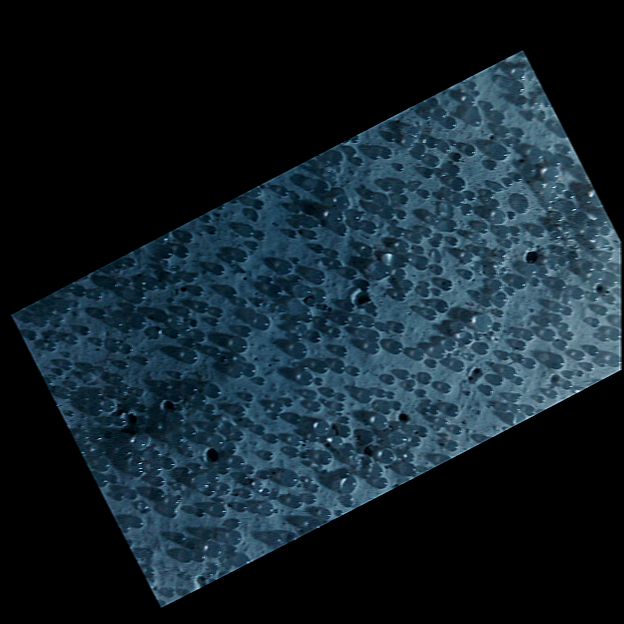GrassBeadSeg: (68, 80, 478, 557), (118, 112, 503, 486), (95, 170, 545, 487), (119, 159, 492, 499), (90, 93, 475, 411), (95, 182, 567, 440), (91, 160, 584, 398), (186, 165, 537, 476), (47, 102, 495, 345), (55, 133, 359, 476), (97, 199, 465, 469), (209, 151, 462, 542), (185, 160, 473, 500), (46, 106, 448, 349), (117, 287, 441, 565), (279, 94, 473, 536), (115, 146, 357, 499), (173, 343, 600, 541), (174, 166, 559, 377), (74, 112, 506, 296), (220, 144, 426, 517), (219, 274, 567, 494), (69, 214, 439, 415), (90, 205, 396, 442), (132, 266, 392, 538), (132, 143, 510, 329), (68, 247, 482, 413), (169, 178, 394, 480), (159, 163, 462, 387), (119, 194, 375, 458), (79, 275, 403, 476), (153, 190, 375, 475), (267, 146, 436, 503), (64, 314, 329, 533), (229, 299, 450, 543), (166, 269, 326, 596), (234, 341, 490, 544), (264, 308, 620, 452), (186, 224, 410, 440), (76, 189, 490, 305), (197, 364, 517, 513), (167, 249, 303, 590), (46, 286, 509, 385), (240, 143, 477, 336), (54, 214, 216, 495), (237, 283, 437, 510), (137, 231, 300, 508), (218, 344, 566, 473), (110, 311, 367, 483), (228, 221, 371, 527), (111, 199, 231, 558), (161, 210, 563, 312), (138, 225, 379, 395), (319, 327, 535, 515), (107, 207, 490, 312), (68, 266, 214, 526), (410, 187, 557, 445), (318, 181, 452, 463), (300, 163, 536, 320), (27, 329, 318, 456), (67, 334, 226, 556), (137, 351, 477, 453), (339, 115, 447, 436), (176, 244, 322, 468), (295, 179, 405, 475), (317, 81, 516, 243), (75, 194, 409, 289), (308, 238, 416, 529), (91, 403, 286, 561), (124, 225, 294, 404), (181, 313, 300, 561), (160, 262, 389, 390), (138, 386, 335, 526), (249, 194, 515, 295), (290, 348, 459, 506), (232, 156, 365, 351), (212, 261, 314, 514), (197, 221, 377, 341), (118, 166, 325, 265), (462, 203, 595, 353), (440, 287, 584, 422), (113, 291, 210, 490), (268, 284, 353, 505), (253, 180, 408, 297), (256, 267, 486, 345), (241, 298, 345, 469), (179, 329, 251, 560), (122, 228, 395, 285), (185, 345, 275, 514), (333, 352, 564, 415), (78, 437, 213, 544), (313, 162, 529, 228), (388, 175, 466, 353), (476, 225, 614, 323), (419, 255, 523, 383), (207, 383, 349, 475), (233, 260, 291, 467), (161, 208, 315, 283), (154, 448, 238, 579), (334, 193, 386, 396), (317, 256, 418, 359), (150, 403, 242, 516), (91, 327, 181, 437), (196, 305, 267, 434), (351, 320, 424, 445), (81, 361, 308, 399), (121, 286, 246, 353), (244, 394, 312, 512), (122, 489, 207, 575), (501, 320, 579, 413), (213, 476, 389, 515), (371, 155, 500, 208), (407, 343, 464, 459), (185, 363, 240, 480), (316, 328, 377, 432), (337, 391, 492, 431), (272, 441, 354, 514), (544, 260, 620, 335), (541, 314, 608, 397), (424, 100, 550, 144), (490, 240, 564, 311), (171, 307, 226, 400), (473, 89, 515, 201), (241, 244, 315, 306), (252, 180, 328, 240), (183, 313, 273, 363), (532, 198, 607, 258), (511, 307, 558, 402), (331, 204, 398, 270), (301, 401, 350, 485), (307, 288, 404, 330), (429, 335, 474, 425), (205, 264, 231, 412), (425, 155, 443, 361), (124, 324, 227, 359), (187, 232, 259, 281), (563, 316, 611, 387), (424, 400, 530, 432), (395, 396, 458, 449), (302, 447, 393, 482), (150, 326, 182, 425), (493, 150, 542, 214), (317, 279, 370, 337), (442, 225, 489, 290), (43, 279, 119, 318), (478, 244, 512, 330), (44, 350, 125, 386), (473, 222, 504, 315), (296, 165, 342, 226), (480, 278, 565, 310), (593, 271, 620, 365), (469, 80, 524, 125), (504, 147, 570, 184), (266, 230, 316, 278), (490, 307, 532, 364), (251, 186, 289, 248), (341, 401, 391, 445), (319, 170, 365, 217), (384, 366, 410, 448), (94, 258, 146, 298), (354, 430, 414, 464), (164, 427, 215, 467), (544, 145, 575, 208), (426, 116, 459, 173), (402, 111, 453, 147), (514, 236, 578, 264), (554, 277, 600, 313), (252, 468, 318, 493), (433, 214, 488, 244), (395, 207, 448, 237), (485, 360, 526, 396), (348, 363, 386, 401), (307, 376, 343, 416), (422, 189, 457, 230), (231, 364, 266, 405), (233, 332, 245, 440), (552, 189, 591, 222), (415, 144, 450, 180), (405, 378, 428, 428), (224, 404, 247, 453), (152, 494, 205, 515), (377, 412, 400, 460), (63, 291, 107, 316), (314, 360, 329, 431), (289, 340, 347, 358), (371, 413, 407, 441), (325, 157, 340, 223), (585, 196, 611, 234), (352, 285, 377, 324), (394, 274, 413, 325), (421, 365, 459, 390), (138, 306, 192, 323), (328, 243, 373, 263), (79, 416, 126, 435), (459, 294, 493, 319), (63, 394, 116, 410), (517, 71, 545, 101), (220, 352, 258, 374), (53, 308, 107, 322), (359, 240, 411, 254), (335, 388, 363, 413), (452, 315, 482, 338), (160, 281, 183, 311), (294, 279, 308, 327), (497, 215, 521, 242), (540, 312, 563, 339), (245, 462, 263, 495), (500, 117, 531, 136), (583, 251, 612, 271), (415, 178, 444, 198), (470, 112, 502, 130), (111, 398, 139, 418), (392, 225, 422, 243), (314, 172, 337, 193), (153, 463, 166, 500), (130, 462, 161, 476), (528, 113, 540, 149), (436, 258, 479, 268), (131, 451, 161, 465), (475, 239, 487, 270), (370, 138, 394, 153), (395, 246, 408, 273), (297, 328, 307, 363), (282, 469, 301, 486), (433, 232, 444, 259), (341, 476, 358, 493), (171, 315, 199, 324), (172, 307, 192, 319), (268, 529, 282, 545), (212, 433, 226, 449), (64, 389, 86, 399), (315, 204, 329, 219), (43, 306, 57, 321), (314, 357, 329, 371), (295, 219, 310, 232), (328, 153, 341, 164), (265, 273, 277, 284), (324, 149, 335, 161), (338, 217, 360, 223), (529, 150, 541, 160), (274, 273, 301, 277), (517, 94, 527, 104), (493, 215, 505, 223), (291, 433, 299, 444), (370, 330, 379, 339), (81, 431, 89, 441), (372, 148, 380, 158), (315, 243, 323, 253), (336, 149, 343, 160), (56, 315, 65, 323), (373, 341, 379, 351), (386, 131, 395, 137), (419, 265, 428, 270), (504, 367, 509, 376), (366, 334, 370, 345), (367, 347, 373, 351), (513, 90, 521, 93), (414, 263, 418, 268)
